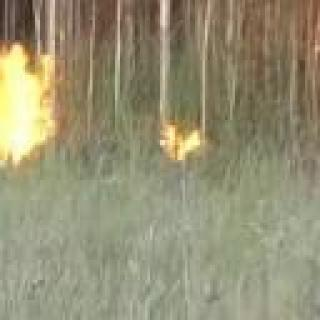fire: (0, 37, 59, 175), (156, 124, 204, 168)
